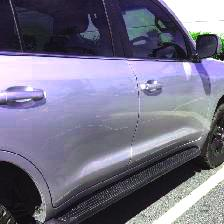door_scratch: (67, 105, 209, 180)
